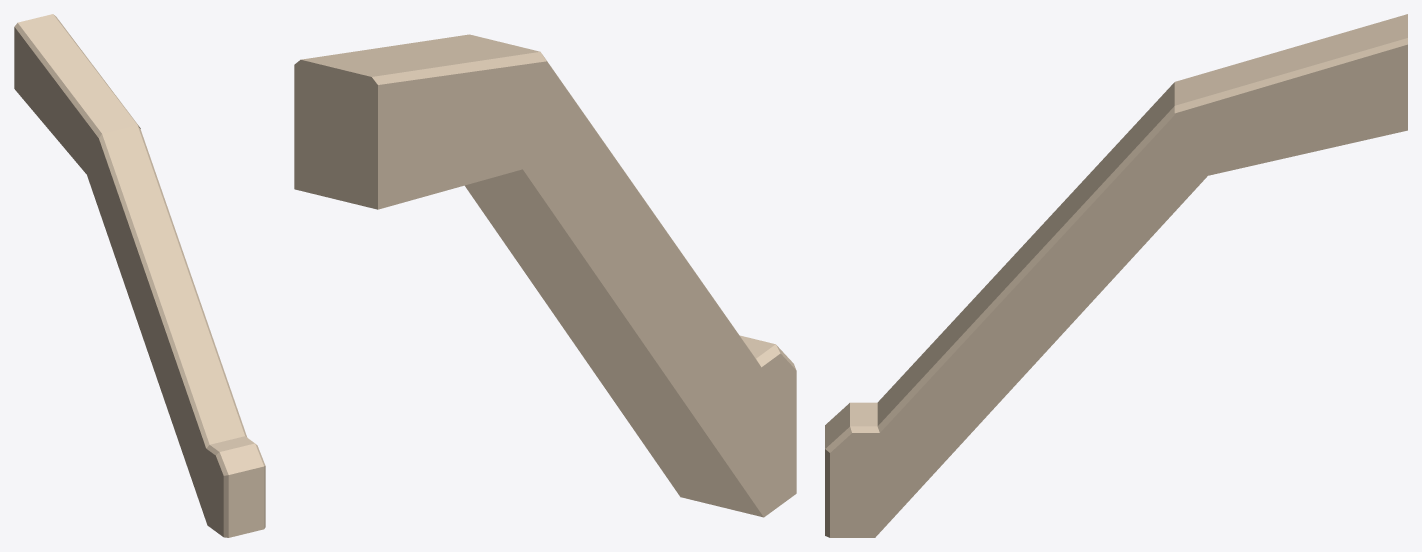
The model's file is fantasy_roof_divider_1.fbx.
The picture shows the model from 3 angles, left to right: view 1: azimuth 30°, elevation 25°; view 2: azimuth 150°, elevation 25°; view 3: azimuth 270°, elevation 25°; orthographic projection. The views are drawn at different scales.
Parts seen in each view (by area): view 1: Cube.235; view 2: Cube.235; view 3: Cube.235.
Part boxes in pixels (left/top/right/bottom): Cube.235: left=14, top=14, right=265, bottom=537; Cube.235: left=294, top=34, right=796, bottom=517; Cube.235: left=825, top=14, right=1407, bottom=537.
Size of the model in its own units: 40 by 330 by 350.
